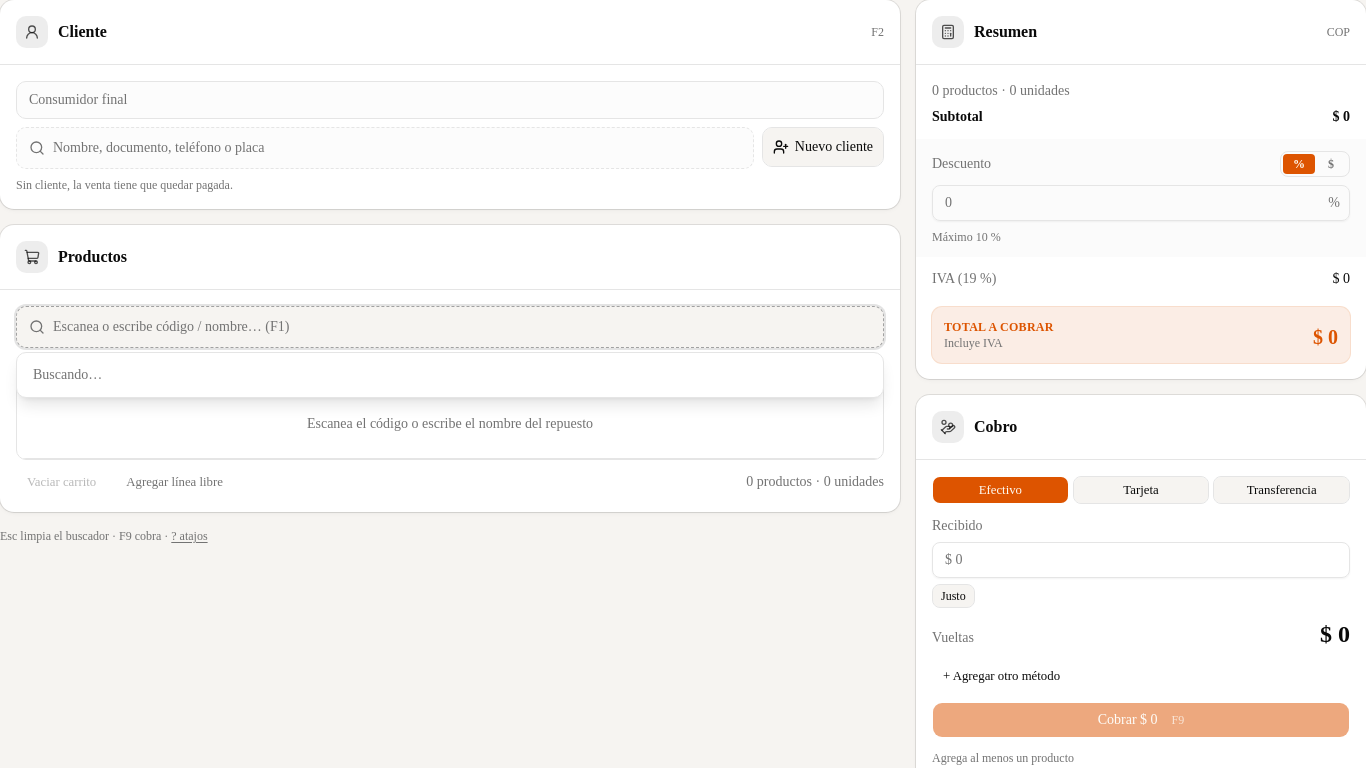
it: VenderMostrador › si el servidor responde stock insuficiente, el carrito no se vacía y la fila se marca
The width and height of the screenshot is (1366, 768).
In the dropdown named "Buscar repuesto": {"x": 462, "y": 327} [53,307,871,347], type "Filtro"
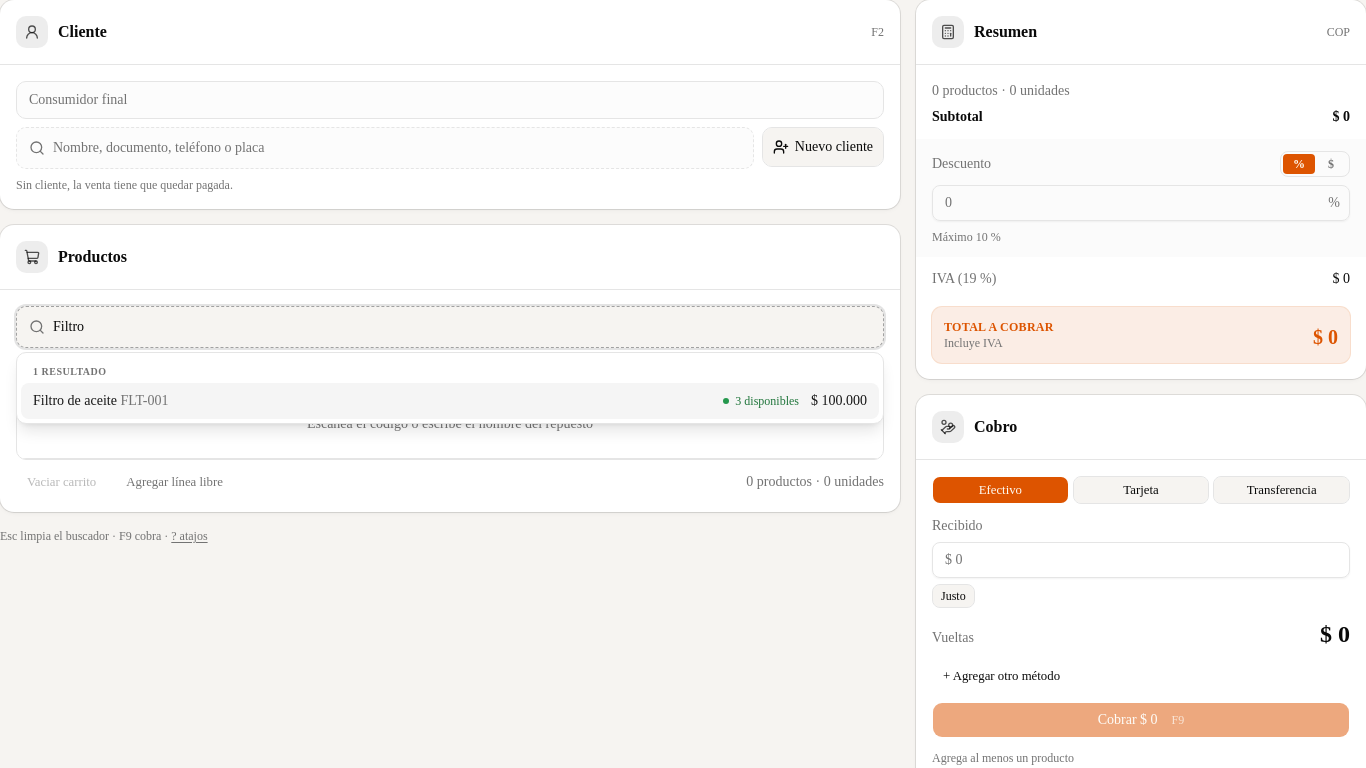
Click the option "Filtro de aceite FLT-001 3 disponibles $ 100.000": {"x": 75, "y": 401} [21,383,879,419]
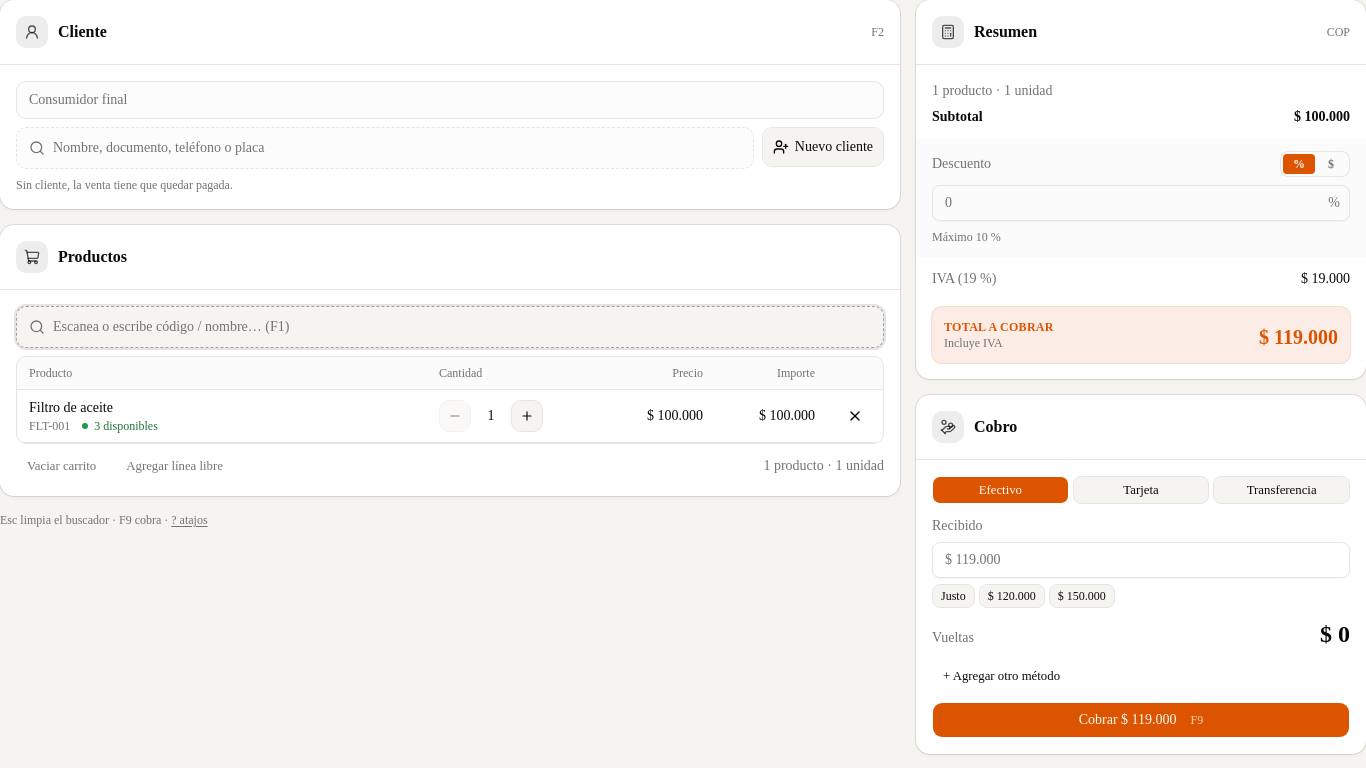
Click the button "Cobrar $ 119.000 F9": {"x": 1141, "y": 720} [932,702,1350,738]
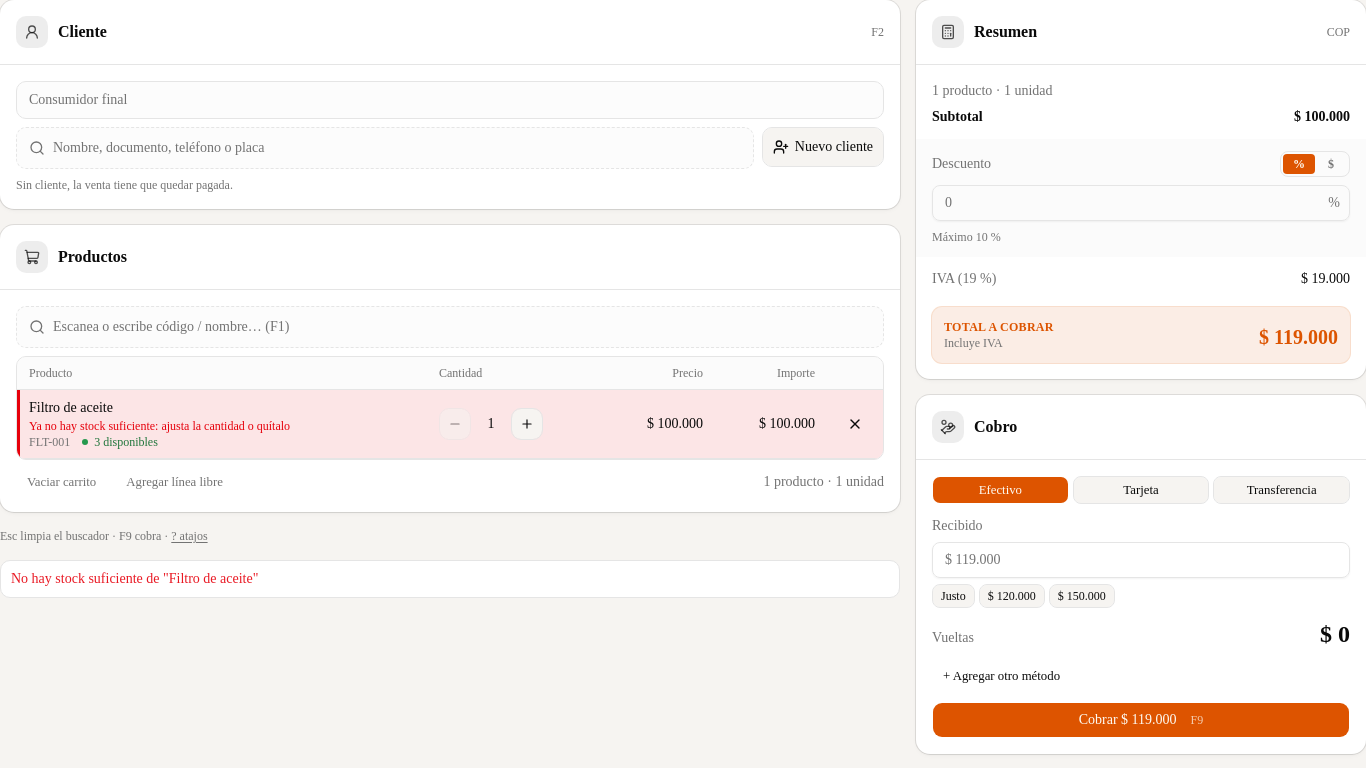
Result: the text "No hay stock suficiente de \"Filtro de aceite\"" is shown at [11,571,258,586]
Result: the row "Filtro de aceite" shows "Ya no hay stock suficiente" at [29,419,290,433]
